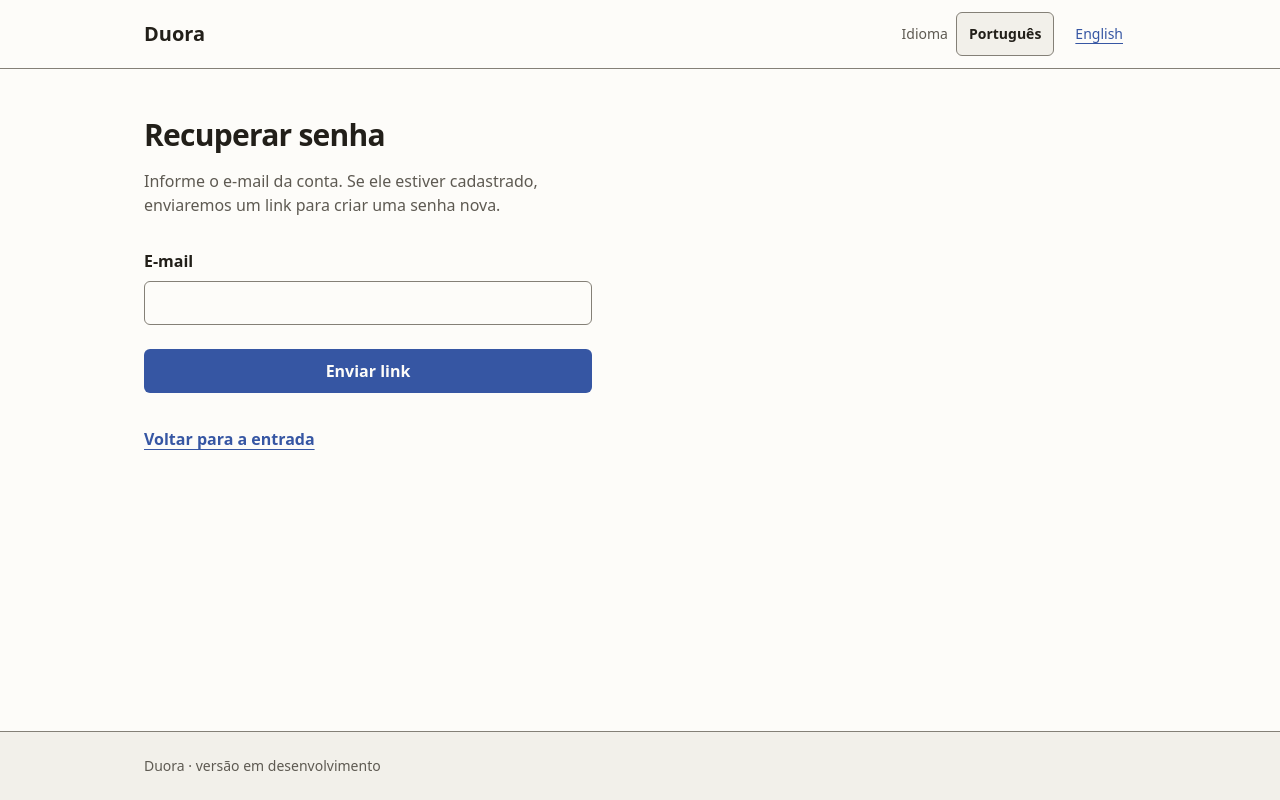
it: tela de recuperação de senha › erro de rede tem mensagem própria
Type "ana@exemplo.com" into the field labelled "E-mail". click: (368, 303)
box: [144,281,592,325]
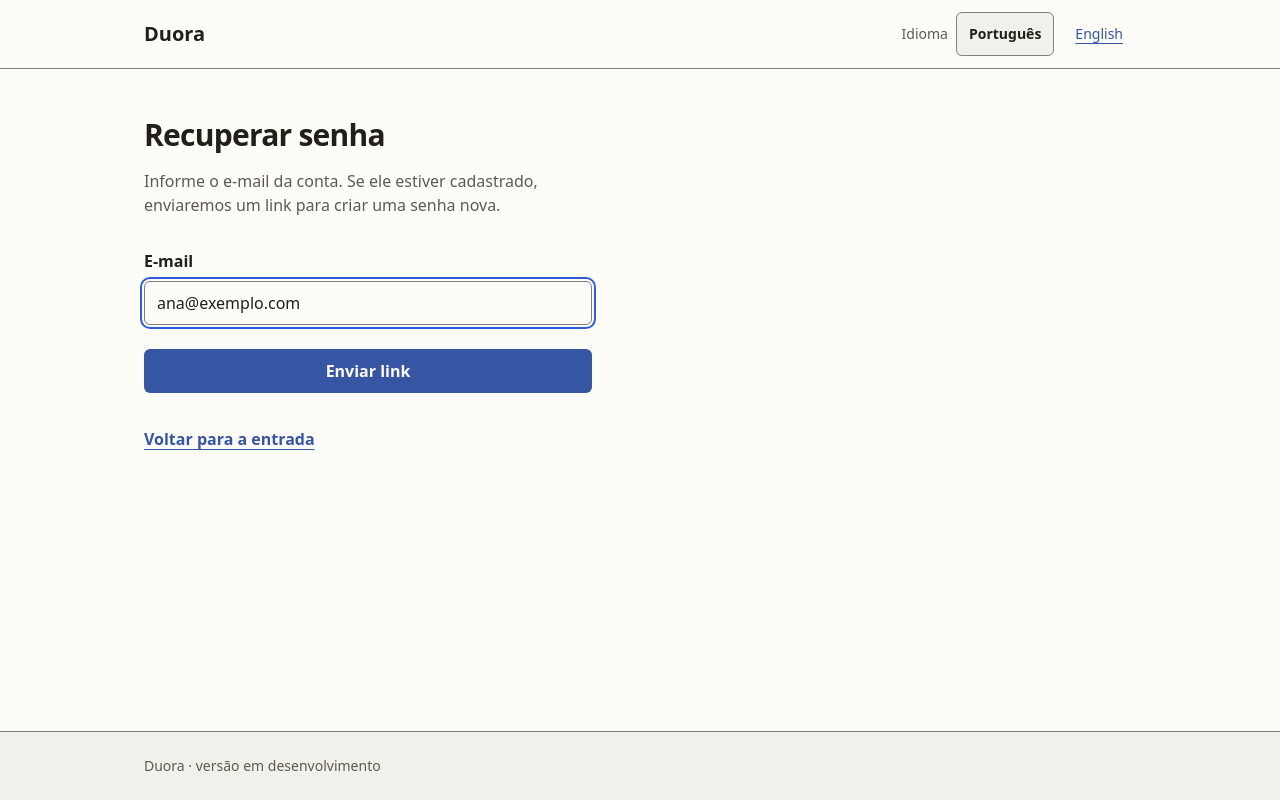
Click the button "Enviar link". click: click(368, 371)
box: [144,349,592,393]
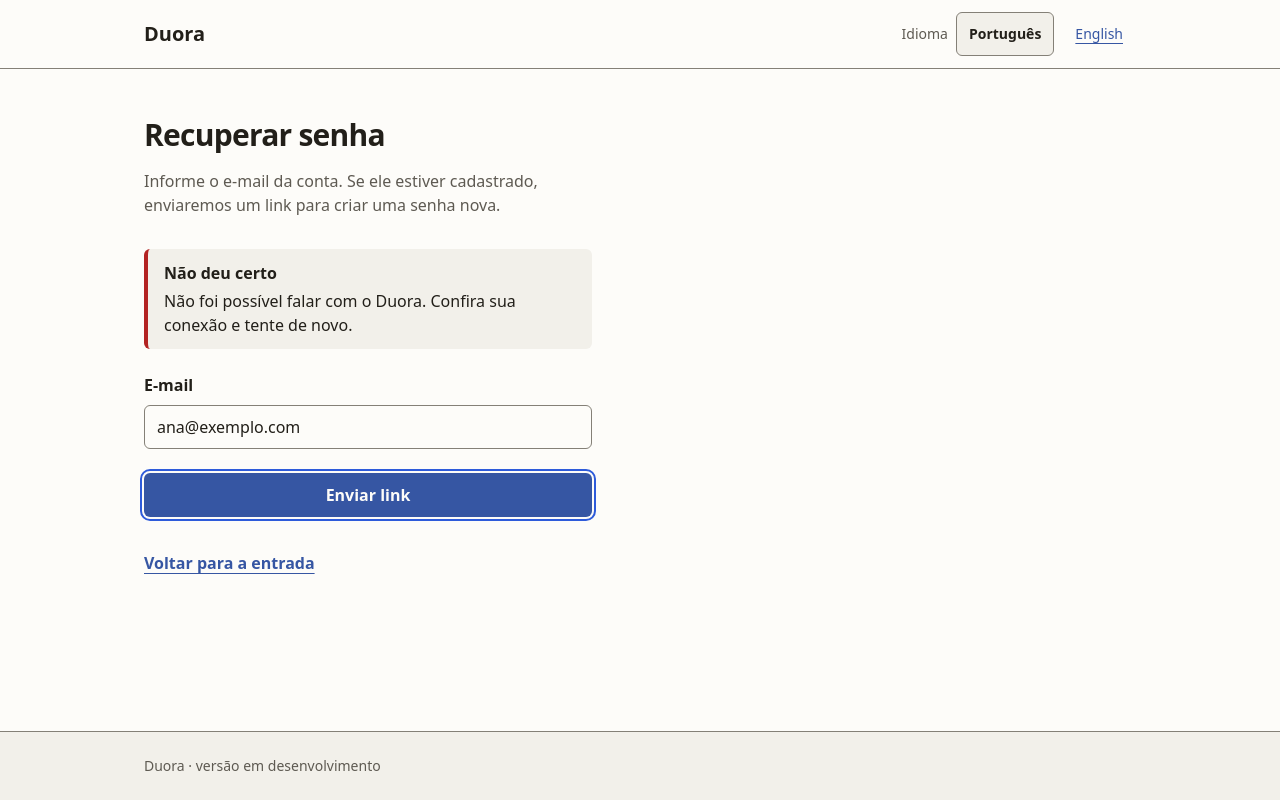
expect the message shows "Confira sua conexão": met, box [164,290,516,336]
